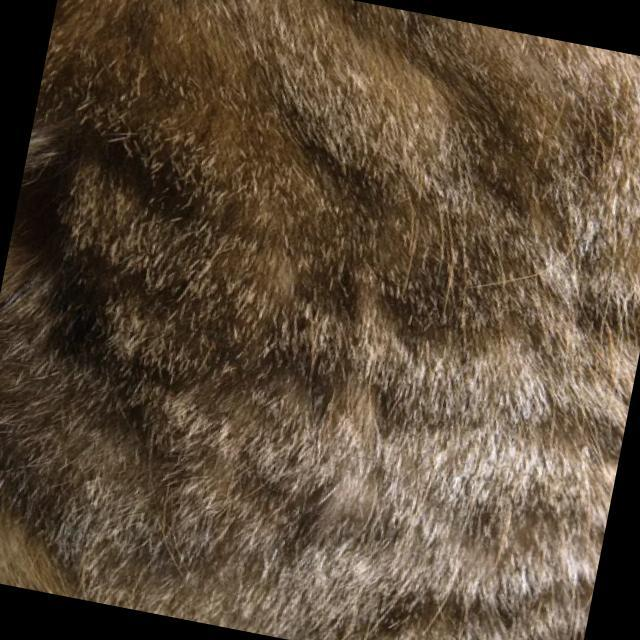Healthy skin: (17, 0, 311, 335), (272, 204, 594, 432), (0, 350, 279, 609), (317, 22, 640, 243), (305, 459, 601, 640)
